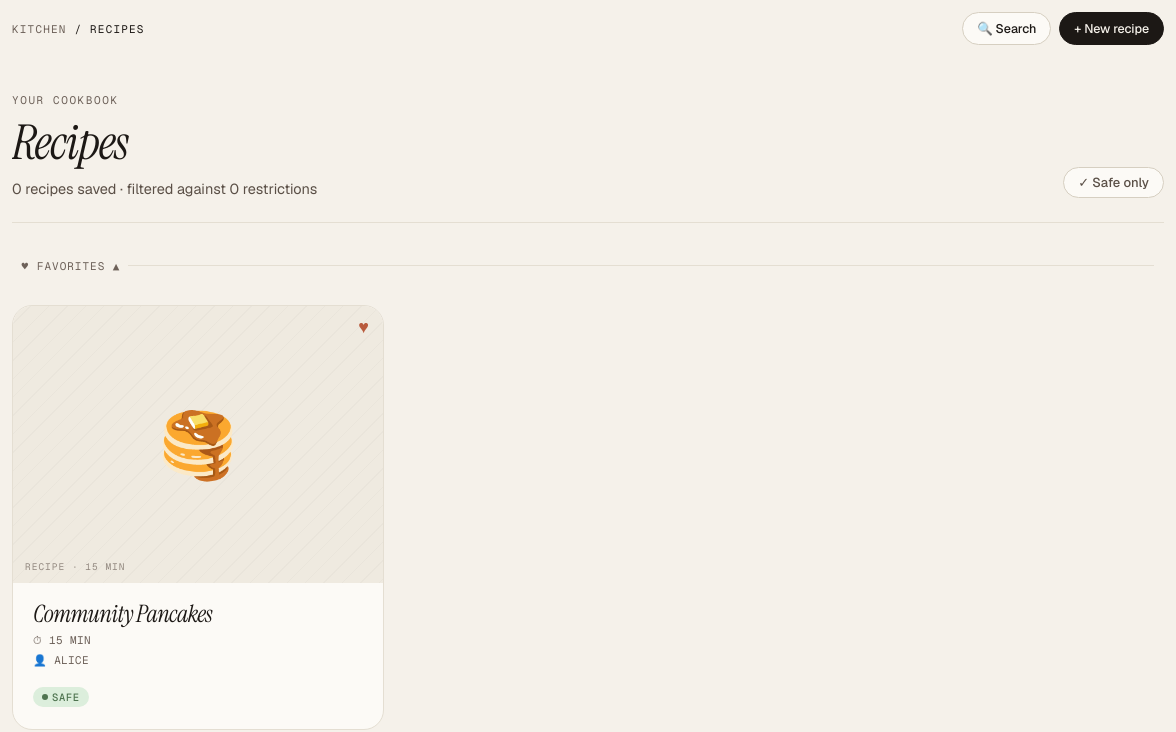
Test: RecipesScreen – favorites section › hides favorite cards after clicking the toggle
The image size is (1176, 732).
Step 1. Click the button "♥ Favorites ▲" → (71, 266), box [22,259,120,273]
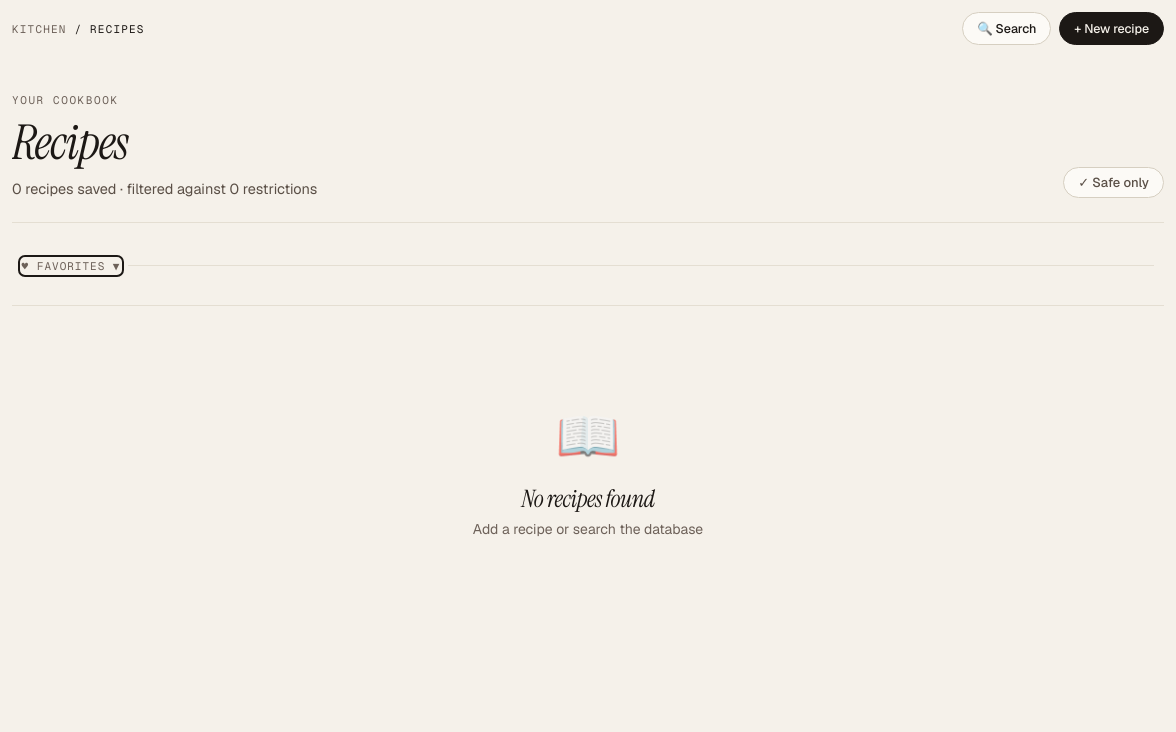
Expected: the text "Community Pancakes" is gone
